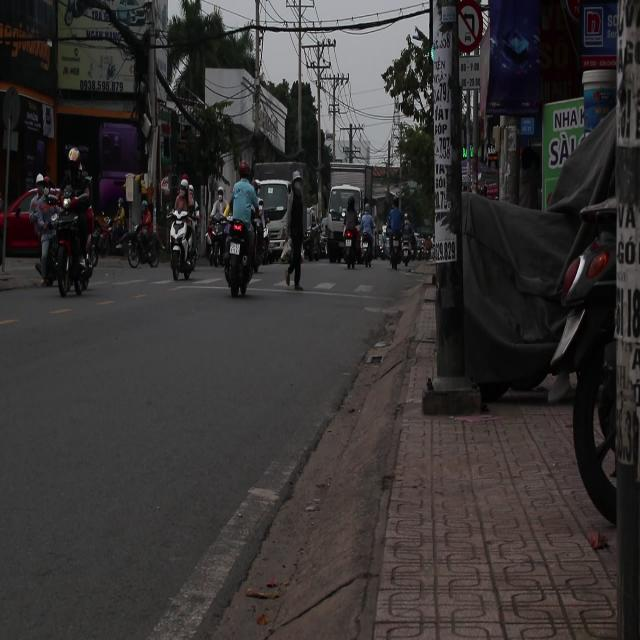car: (0, 191, 44, 259)
motorbike: (43, 194, 99, 299), (220, 215, 258, 297), (169, 217, 200, 281), (92, 207, 128, 260), (129, 216, 163, 270), (343, 220, 376, 271), (207, 205, 230, 268), (343, 227, 361, 270), (387, 231, 404, 269), (376, 230, 389, 262)
truck: (256, 176, 296, 264)
